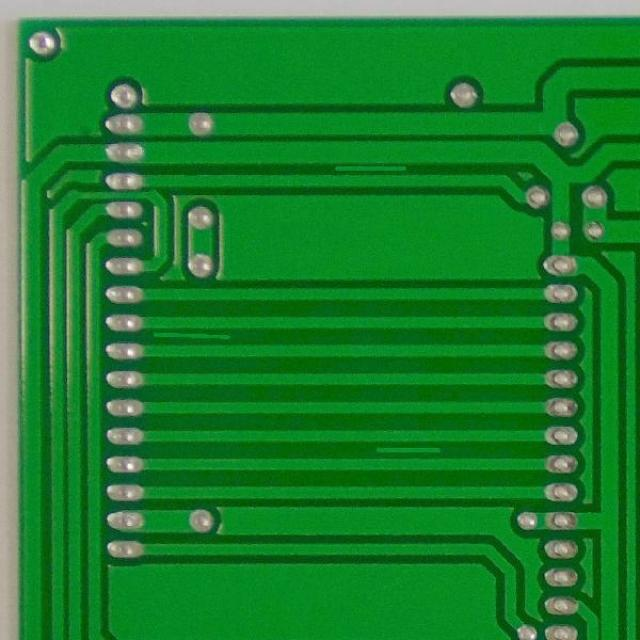spurious_copper: (327, 158, 413, 183), (152, 328, 234, 347), (370, 443, 447, 462)
